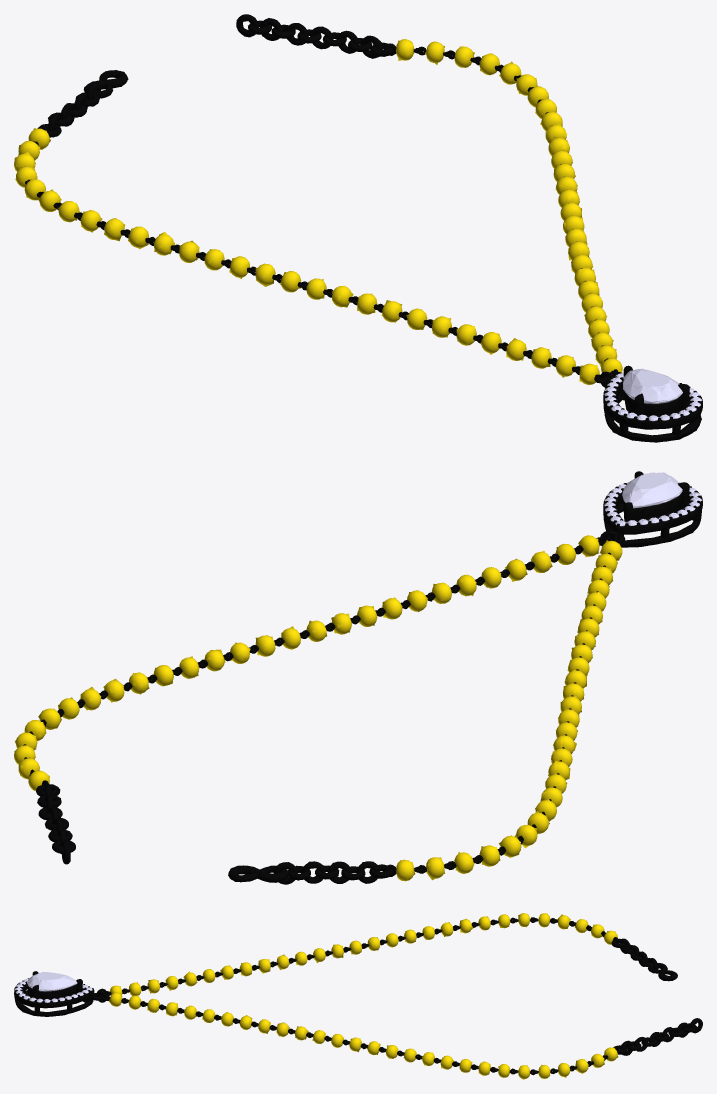
3 renders of one model, top to bottom at view 1: azimuth 30°, elevation 25°; view 2: azimuth 150°, elevation 25°; view 3: azimuth 270°, elevation 25°, orthographic. The views are drawn at different scales.
Visible parts, largest first — view 1: highPolyMesh, lowPolyMesh; view 2: highPolyMesh, lowPolyMesh; view 3: highPolyMesh, lowPolyMesh.
Boxes of the visible parts, left/top/right/bottom form: highPolyMesh: left=14, top=14, right=702, bottom=442; lowPolyMesh: left=14, top=15, right=702, bottom=442; highPolyMesh: left=14, top=471, right=702, bottom=884; lowPolyMesh: left=14, top=471, right=702, bottom=884; highPolyMesh: left=14, top=913, right=702, bottom=1078; lowPolyMesh: left=14, top=913, right=702, bottom=1079.
Bounding box in the file's own units: 0.056 × 0.00468 × 0.1031.
